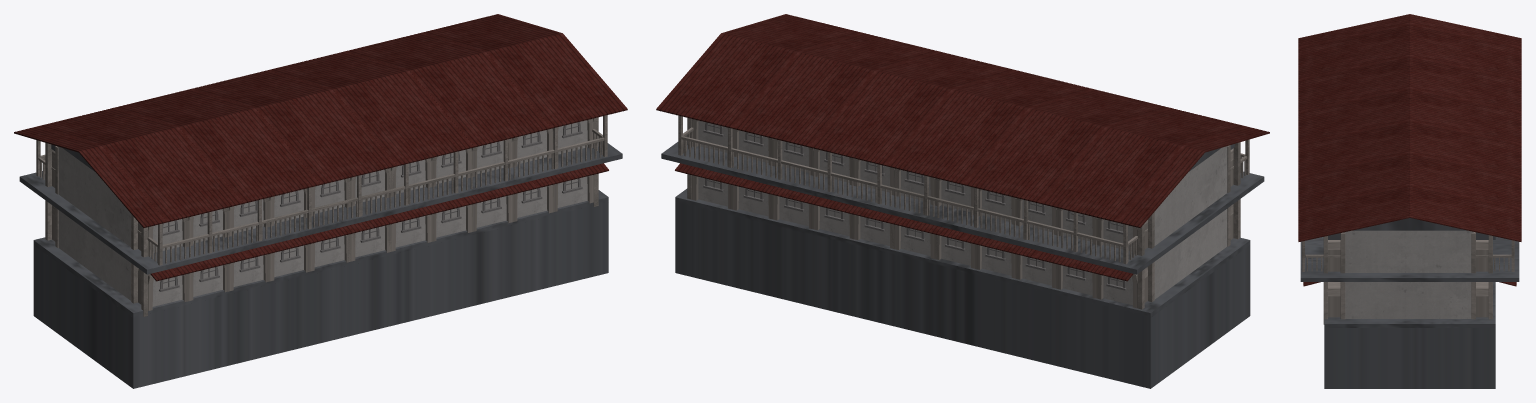
Rendered from School 3.fbx.
The picture shows the model from 3 angles, left to right: view 1: azimuth 30°, elevation 25°; view 2: azimuth 150°, elevation 25°; view 3: azimuth 270°, elevation 25°; orthographic projection. The views are drawn at different scales.
Parts seen in each view (by area): view 1: Plane.011; view 2: Plane.011; view 3: Plane.011.
Part boxes in pixels (box(x1,y1,x2,y2)): Plane.011: box(14, 14, 627, 388); Plane.011: box(656, 14, 1269, 388); Plane.011: box(1298, 14, 1521, 388).
Size of the model in its own units: 7146 by 2851 by 3320.
